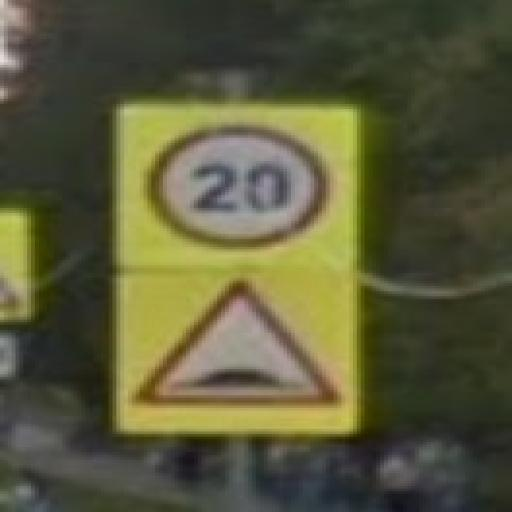traffic_sign: (129, 279, 350, 412), (145, 123, 335, 253)
